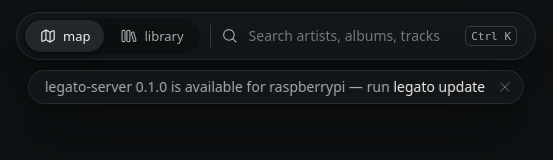
it: the update pill › stays dismissed for that release on this device, and shows a newer one
The width and height of the screenshot is (553, 160).
What coordinates should you click on to do the following:
click the button named "Dismiss until a newer release"
I would click on:
 (505, 87)
Its box is [493, 75, 517, 99].
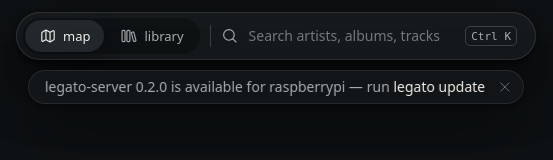
expect the message "legato-server 0.2.0 is available for raspberrypi — run legato update" is shown: met, box [28, 70, 524, 104]
